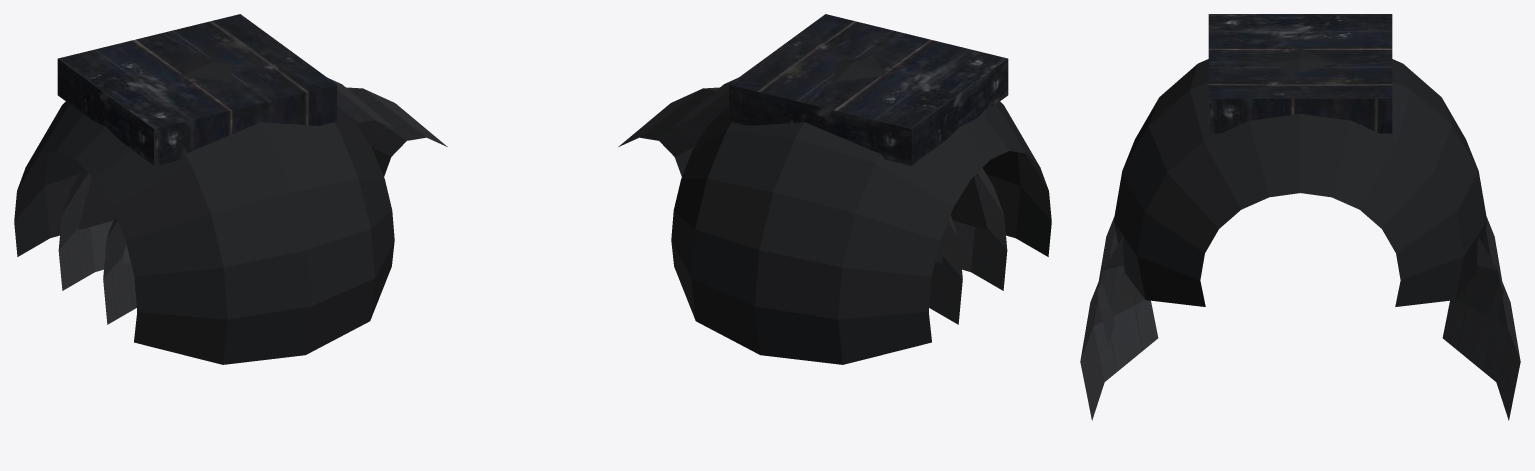
The model's file is eq_present_3_shoulder.glb.
3 renders of one model, left to right at view 1: azimuth 30°, elevation 25°; view 2: azimuth 150°, elevation 25°; view 3: azimuth 270°, elevation 25°, orthographic. The views are drawn at different scales.
Parts seen in each view (by area): view 1: eq_present_3_shoulder; view 2: eq_present_3_shoulder; view 3: eq_present_3_shoulder.
Boxes of the visible parts, x1=… form: eq_present_3_shoulder: x1=14, y1=14, x2=447, y2=364; eq_present_3_shoulder: x1=618, y1=14, x2=1051, y2=364; eq_present_3_shoulder: x1=1080, y1=14, x2=1520, y2=420.
Bounding box in the file's own units: 0.2646 × 0.2238 × 0.2851.
Materials: 3 (3 with a texture image).
